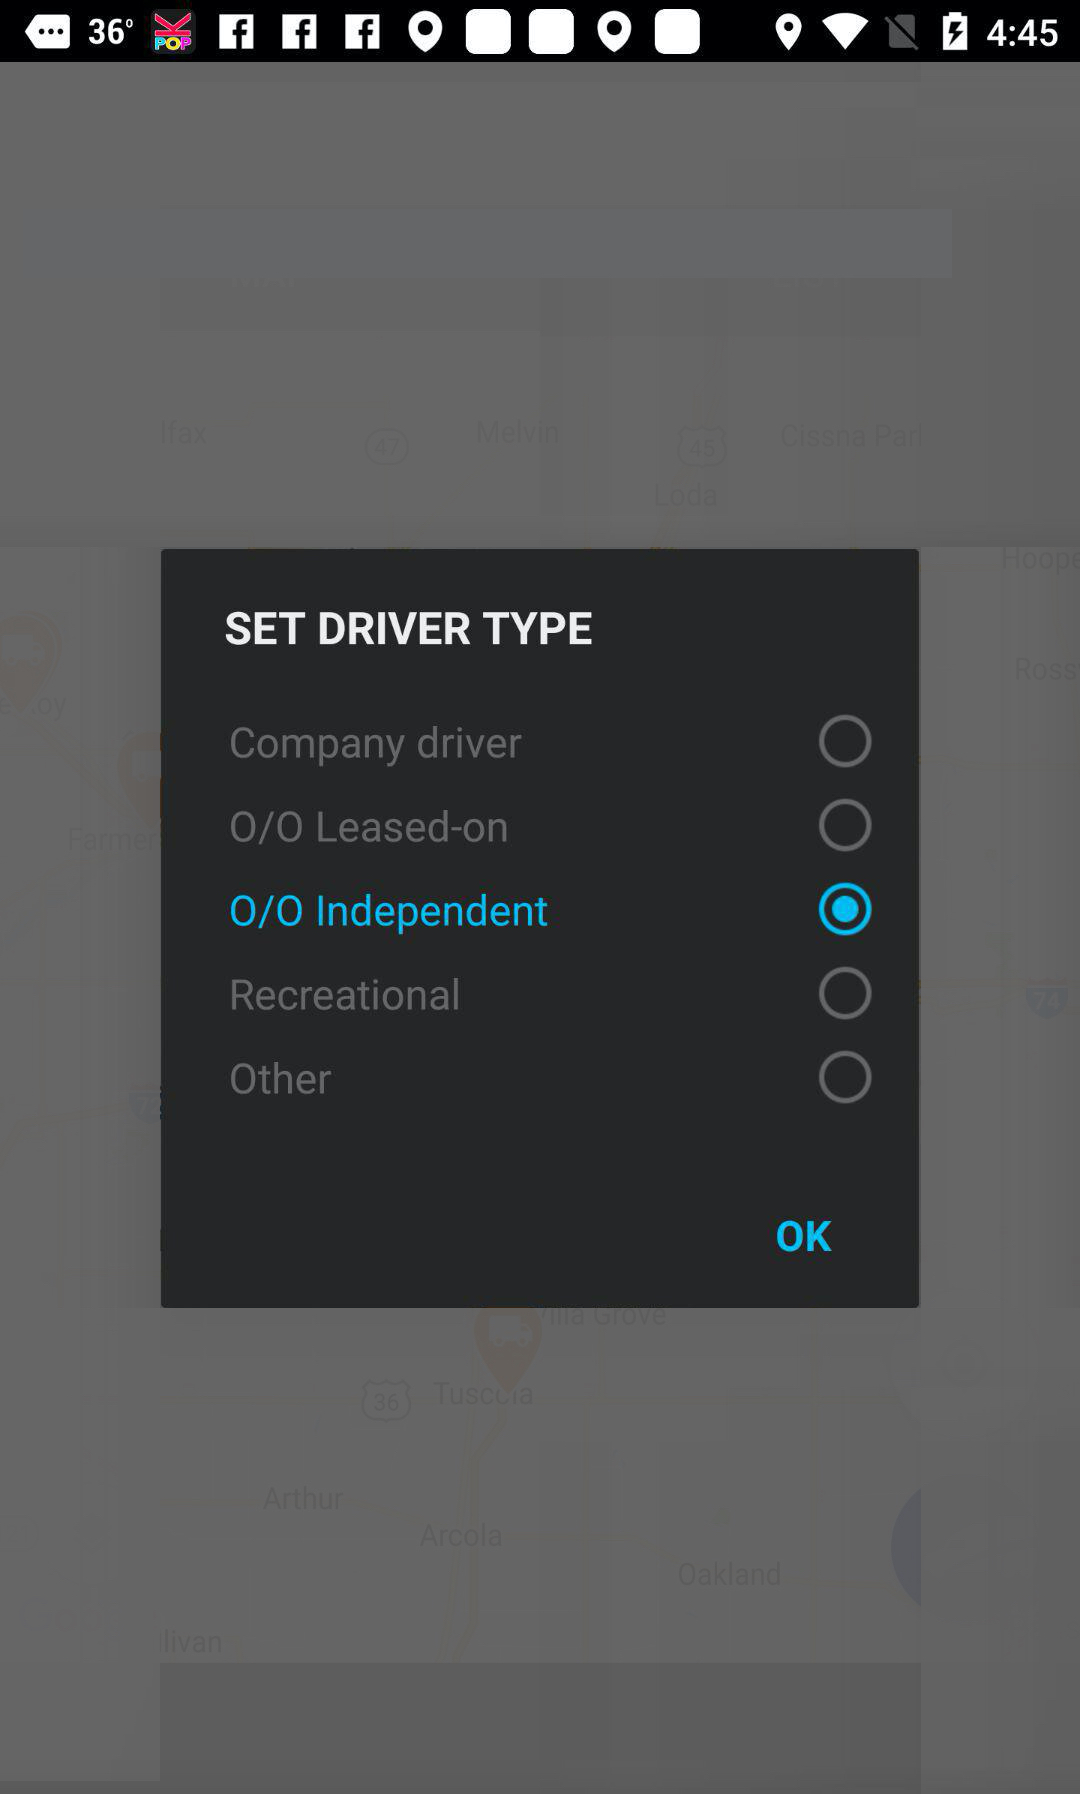CheckedTextView: (231, 715, 872, 769), (231, 1051, 872, 1105), (231, 800, 872, 852), (231, 967, 874, 1019), (232, 884, 872, 935)
Modal: (160, 548, 920, 1308)
Text: (232, 893, 564, 935), (231, 727, 532, 768), (225, 611, 596, 645), (231, 809, 521, 844), (231, 976, 460, 1014), (231, 1060, 333, 1096), (776, 1219, 833, 1253)
UpperTaskBar: (1, 1, 1080, 64)
